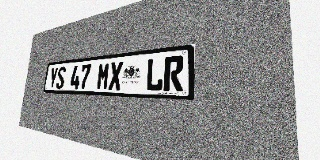4: (70, 65, 81, 89)
7: (79, 64, 91, 89)
L: (145, 57, 164, 91)
M: (96, 62, 110, 90)
R: (163, 55, 184, 92)
S: (56, 66, 66, 89)
X: (108, 61, 123, 90)
Y: (48, 67, 58, 89)
